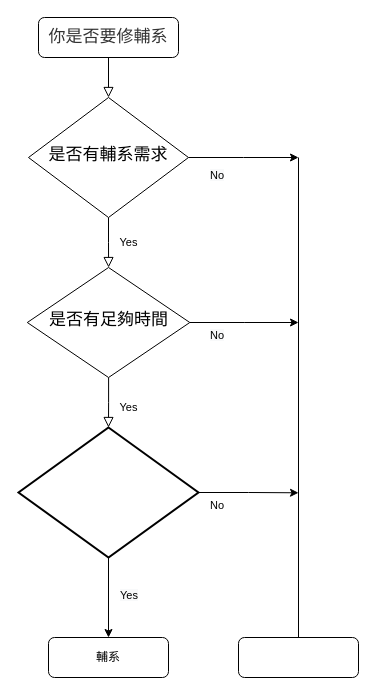
Some shapes in this 376 by 695 pixel diagram are drawn without their labels. The shapes that lost their labels are listed below. From the top down, each one's centre as x and y in pixels, then its label:
At (108,492): "是否了解輔系機制".
At (298,657): "不輔系".
